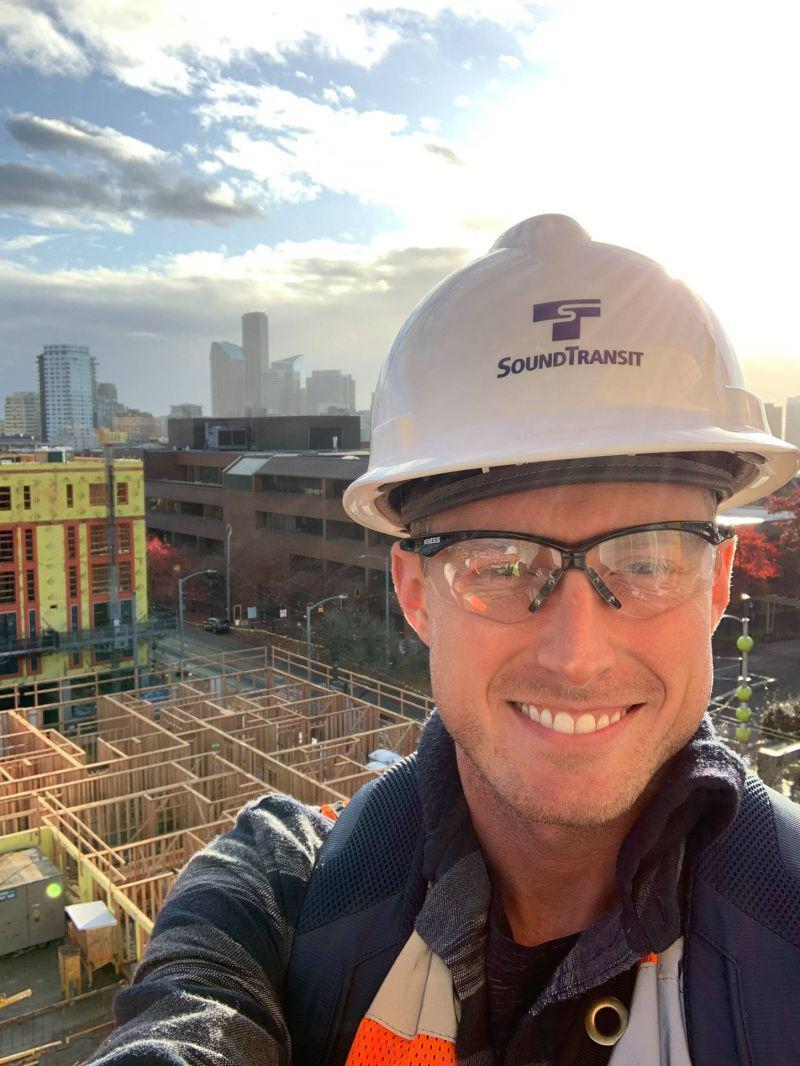helmet: (341, 215, 799, 535)
